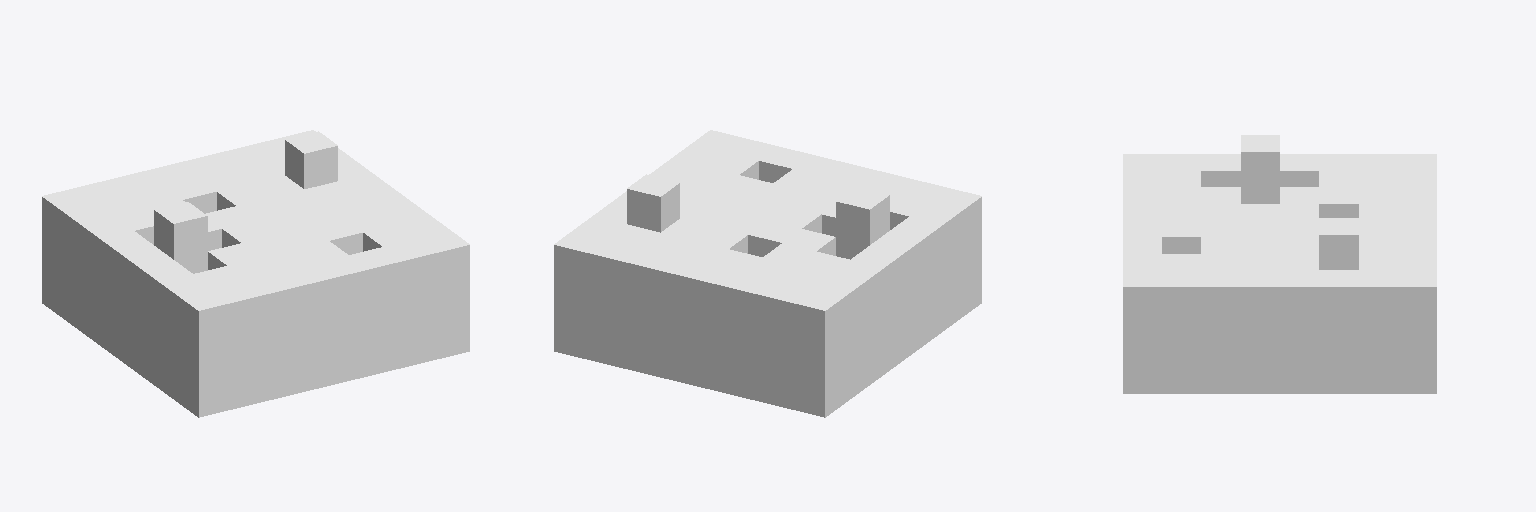
Rendered from Lava16.obj.
The picture shows the model from 3 angles: view 1: azimuth 30°, elevation 25°; view 2: azimuth 150°, elevation 25°; view 3: azimuth 270°, elevation 25°; orthographic projection.
Parts seen in each view (by area): view 1: object 1; view 2: object 1; view 3: object 1.
Boxes of the visible parts, <box> form: object 1: <box>42,130,469,417</box>; object 1: <box>554,130,981,417</box>; object 1: <box>1123,135,1436,393</box>.
Size of the model in its own units: 0.8 by 0.4 by 0.8.